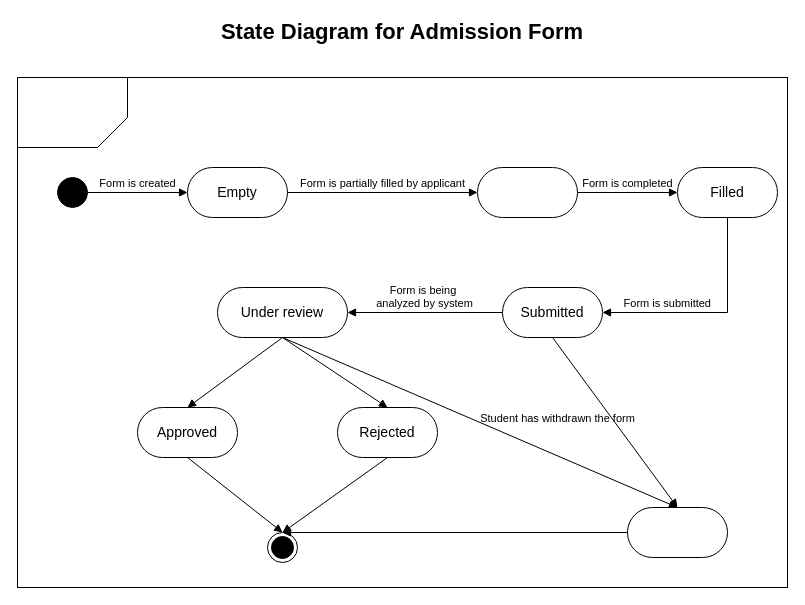
This 805x605 diagram has some shape labels left out. Each missing label, with the centre of its shape:
Cancelled: pixel 677 532
Form: pixel 72 112
In progress: pixel 527 192
